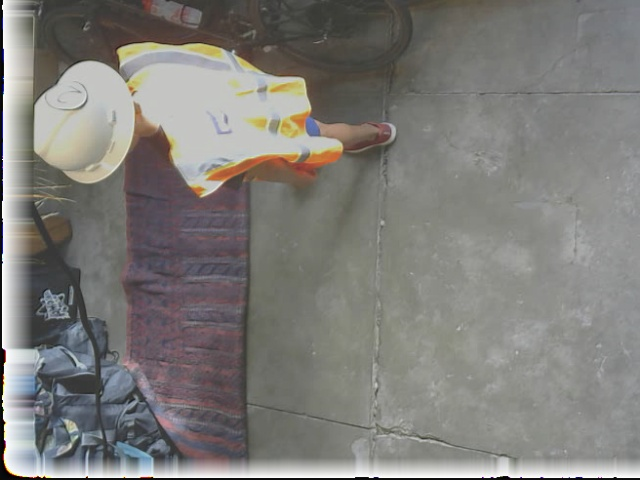two: (45, 79, 86, 109)
